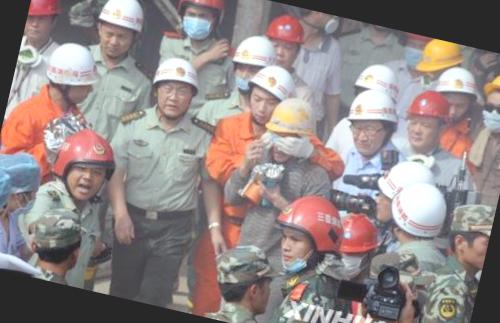no_helmet: (206, 236, 282, 318), (23, 202, 96, 278), (441, 194, 496, 278), (0, 146, 42, 218)
person: (86, 52, 241, 312), (180, 58, 292, 318), (218, 90, 317, 249), (250, 192, 361, 323), (356, 179, 456, 323), (71, 0, 164, 138), (10, 35, 96, 160), (411, 197, 495, 323), (156, 0, 249, 79), (454, 66, 500, 215)
